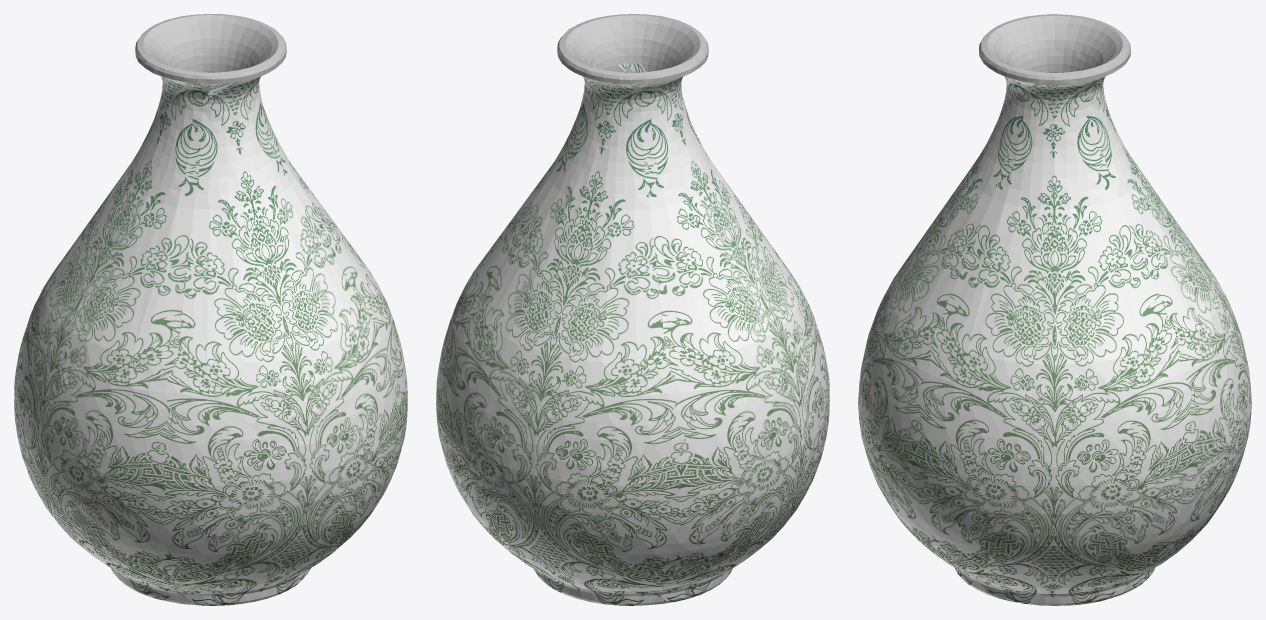
Rendered from Green_Model.fbx.
3 renders of one model, left to right at view 1: azimuth 30°, elevation 25°; view 2: azimuth 150°, elevation 25°; view 3: azimuth 270°, elevation 25°, orthographic.
Visible parts, largest first — view 1: mesh_rep_0_ori_repair_quad.obj, 对象001; view 2: mesh_rep_0_ori_repair_quad.obj, 对象001; view 3: mesh_rep_0_ori_repair_quad.obj, 对象001.
Boxes of the visible parts, bbox=[...] form: mesh_rep_0_ori_repair_quad.obj: bbox=[14, 74, 407, 605]; 对象001: bbox=[135, 14, 286, 83]; mesh_rep_0_ori_repair_quad.obj: bbox=[436, 63, 829, 605]; 对象001: bbox=[557, 14, 708, 84]; mesh_rep_0_ori_repair_quad.obj: bbox=[858, 71, 1251, 605]; 对象001: bbox=[979, 14, 1130, 84].
Size of the model in its own units: 130 by 190 by 130.
Materials: 2 (1 with a texture image).
